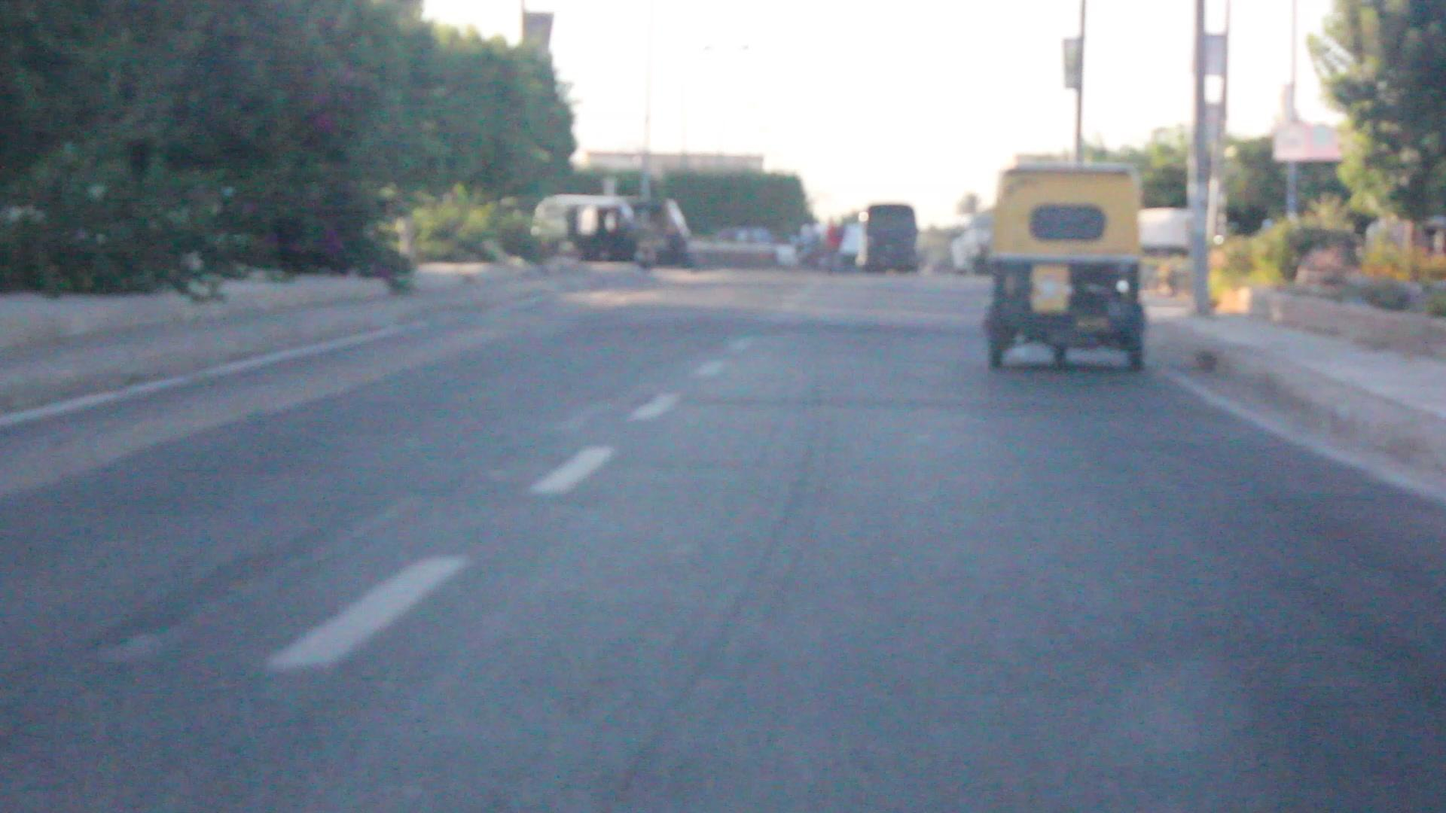Bump: (572, 316, 994, 350)
